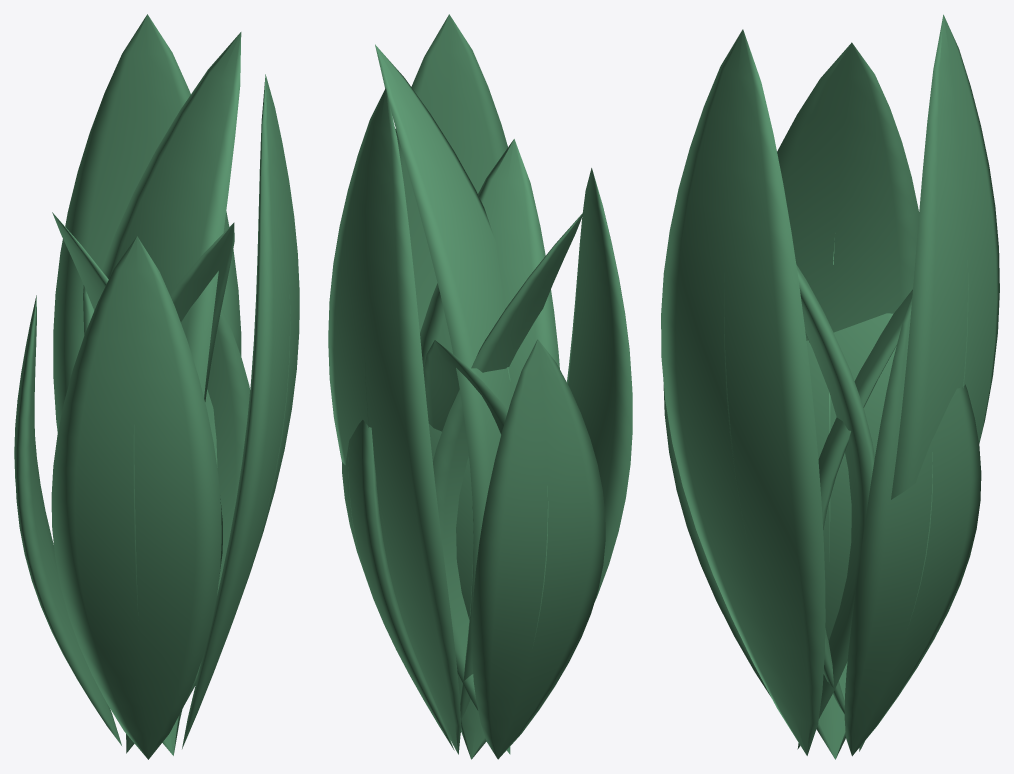
File: Cryptocoryne.fbx
3 views of the same model, side by side, from view 1: azimuth 30°, elevation 25°; view 2: azimuth 150°, elevation 25°; view 3: azimuth 270°, elevation 25° (orthographic). The views are drawn at different scales.
Visible parts, largest first — view 1: Cryptocoryne | leaves, Cryptocoryne | veins; view 2: Cryptocoryne | leaves, Cryptocoryne | veins; view 3: Cryptocoryne | leaves, Cryptocoryne | veins.
Part boxes in pixels (<box>): Cryptocoryne | leaves: <box>14,14,299,759</box>; Cryptocoryne | veins: <box>14,283,290,620</box>; Cryptocoryne | leaves: <box>328,14,632,759</box>; Cryptocoryne | veins: <box>348,313,548,645</box>; Cryptocoryne | leaves: <box>661,14,999,759</box>; Cryptocoryne | veins: <box>723,233,968,620</box>.
Size of the model in its own units: 34.8 by 88 by 35.7.
